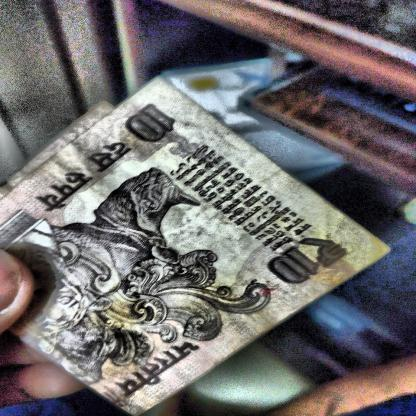Rs10: (253, 222, 360, 296), (110, 95, 189, 151)
